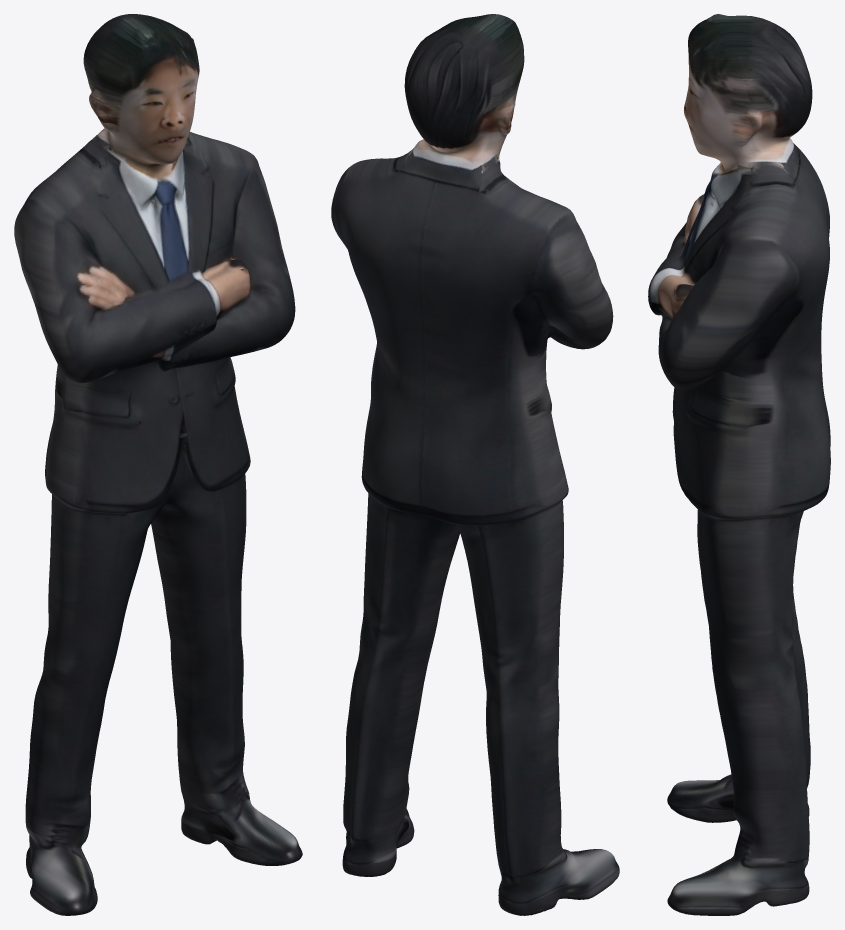
File: Coach1.fbx
3 views of the same model, side by side, from view 1: azimuth 30°, elevation 25°; view 2: azimuth 150°, elevation 25°; view 3: azimuth 270°, elevation 25° (orthographic). The views are drawn at different scales.
Visible parts, largest first — view 1: Coach1; view 2: Coach1; view 3: Coach1.
Part boxes in pixels (left/top/right/bottom): Coach1: left=14, top=14, right=302, bottom=915; Coach1: left=331, top=14, right=619, bottom=915; Coach1: left=648, top=14, right=830, bottom=915.
Bounding box in the file's own units: 53.59 × 175 × 34.72.
Materials: 1 (1 with a texture image).
